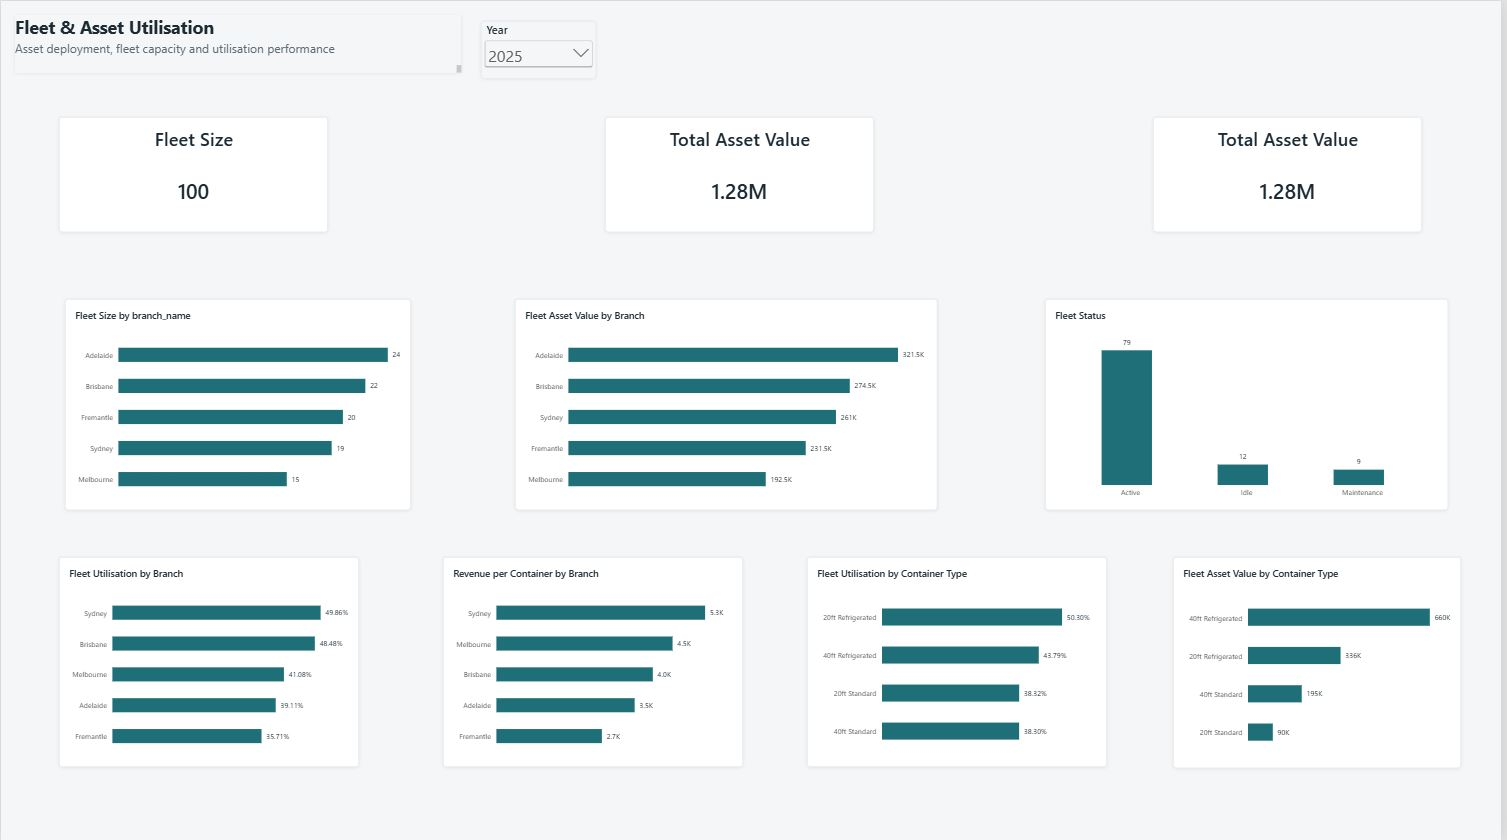

The dashboard page shown, as its layout file describes it:
{"tool":"powerbi","page":{"name":"Asset & Fleet Utilisation","canvas":[2500,1400],"ordinal":2},"visuals":[{"type":"textbox","title":"Fleet & Asset Utilisation","box":[24,24,744,96],"z":0},{"type":"card","title":"Fleet Size","fields":{"Values":["_Measures.Fleet Size"]},"box":[96,192,448,192],"z":1000},{"type":"card","title":"Total Asset Value","fields":{"Values":["_Measures.Total Asset Value"]},"box":[1008,192,448,192],"z":2000},{"type":"card","title":"Total Asset Value","fields":{"Values":["_Measures.Total Asset Value"]},"box":[1920,192,448,192],"z":3000},{"type":"clusteredBarChart","fields":{"Category":["dim_branches.branch_name"],"Y":["_Measures.Fleet Size"]},"box":[106.3,496.7,576,352],"z":4000},{"type":"clusteredBarChart","title":"Fleet Asset Value by Branch","fields":{"Category":["dim_branches.branch_name"],"Y":["_Measures.Total Asset Value"]},"box":[858.3,496.7,704,352],"z":5000},{"type":"clusteredColumnChart","title":"Fleet Status","fields":{"Category":["dim_fleet.status"],"Y":["_Measures.Fleet Size"]},"box":[1738.3,496.7,672,352],"z":6000},{"type":"clusteredBarChart","title":"Fleet Utilisation by Branch","fields":{"Category":["dim_branches.branch_name"],"Y":["_Measures.Fleet Utilisation 2025 %"]},"box":[96,928,500,350],"z":7000},{"type":"clusteredBarChart","title":"Revenue per Container by Branch","fields":{"Category":["dim_branches.branch_name"],"Y":["_Measures.Revenue per Container"]},"box":[736,928,500,350],"z":8000},{"type":"slicer","fields":{"Values":["DateTable.Year"]},"box":[800,32,192,96],"z":9000},{"type":"clusteredBarChart","title":"Fleet Utilisation by Container Type","fields":{"Category":["dim_container_types.container_type"],"Y":["_Measures.Fleet Utilisation 2025 %"]},"box":[1344,928,500,350],"z":10000},{"type":"clusteredBarChart","title":"Fleet Asset Value by Container Type","fields":{"Category":["dim_container_types.container_type"],"Y":["_Measures.Total Asset Value"]},"box":[1952,928,480,352],"z":11000}]}

Visuals, with their boxes in screenshot pixels (x1, y1, x2, y2), scaled from the page's 2500x1400 canvas onto the 1507x840 screenshot:
"Fleet & Asset Utilisation" textbox: (left=14, top=14, right=463, bottom=72)
"Fleet Size" card: (left=58, top=115, right=328, bottom=230)
"Total Asset Value" card: (left=608, top=115, right=878, bottom=230)
"Total Asset Value" card: (left=1157, top=115, right=1427, bottom=230)
clusteredBarChart - dim_branches.branch_name x _Measures.Fleet Size: (left=64, top=298, right=411, bottom=509)
"Fleet Asset Value by Branch" clusteredBarChart: (left=517, top=298, right=942, bottom=509)
"Fleet Status" clusteredColumnChart: (left=1048, top=298, right=1453, bottom=509)
"Fleet Utilisation by Branch" clusteredBarChart: (left=58, top=557, right=359, bottom=767)
"Revenue per Container by Branch" clusteredBarChart: (left=444, top=557, right=745, bottom=767)
slicer - DateTable.Year: (left=482, top=19, right=598, bottom=77)
"Fleet Utilisation by Container Type" clusteredBarChart: (left=810, top=557, right=1112, bottom=767)
"Fleet Asset Value by Container Type" clusteredBarChart: (left=1177, top=557, right=1466, bottom=768)
